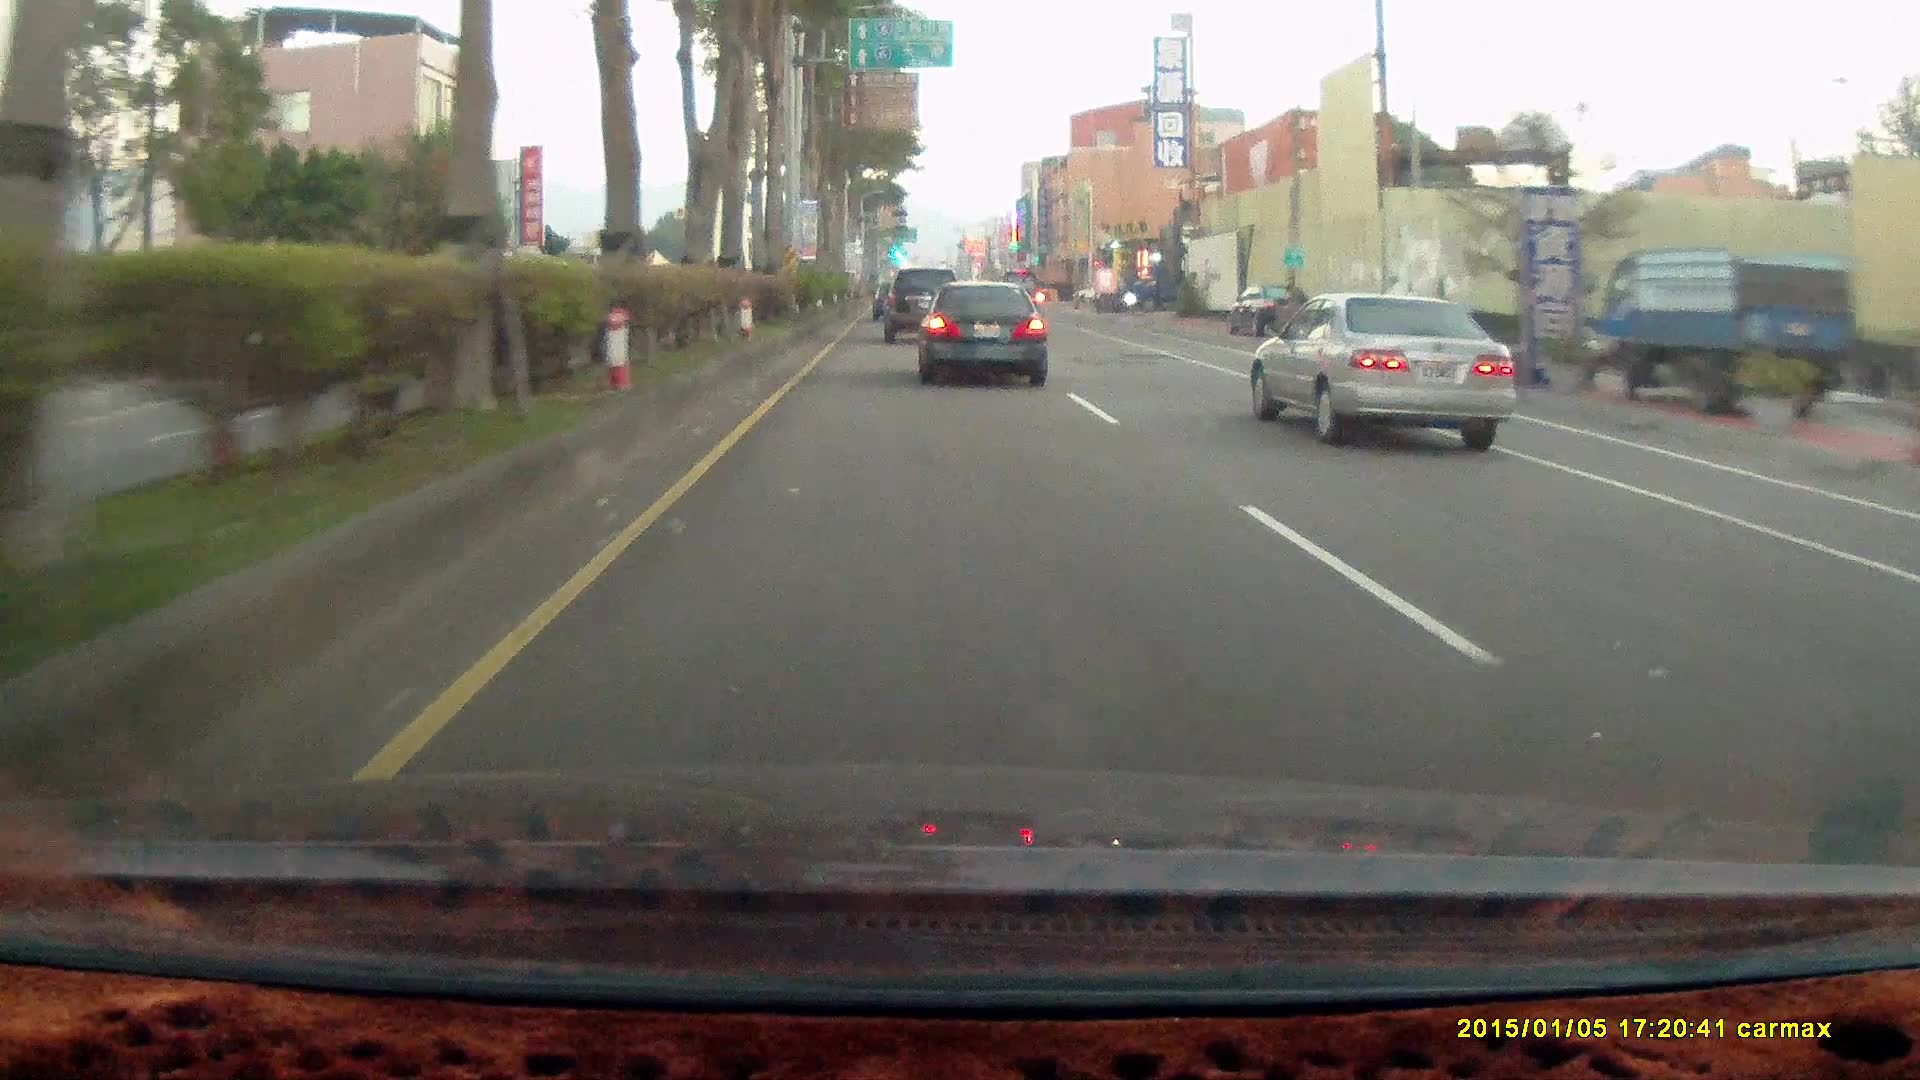vehicle: (1590, 247, 1859, 421), (1590, 247, 1858, 419), (1265, 297, 1532, 459), (1247, 291, 1516, 452), (914, 280, 1047, 385), (916, 286, 1048, 392), (884, 266, 963, 345), (1224, 287, 1312, 340), (1124, 266, 1200, 314)
